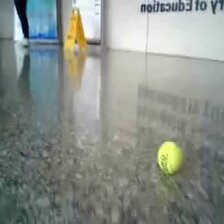tennis: (156, 141, 184, 176)
